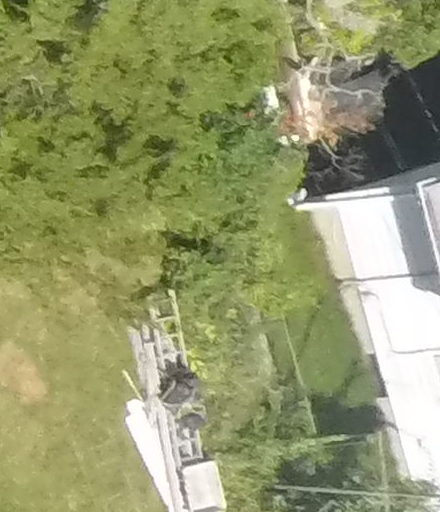trash: (156, 357, 206, 410)
